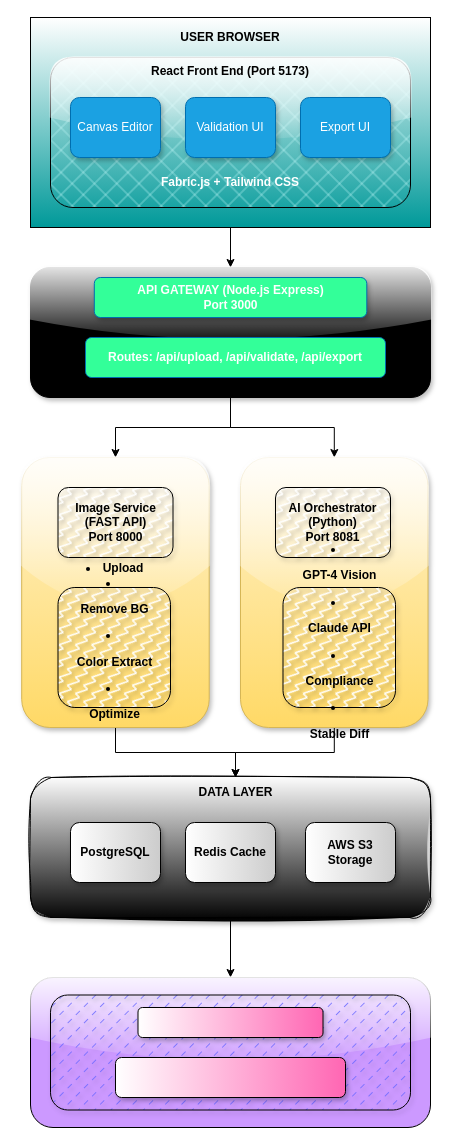
Image size: 454x1145. Some labels were removed from this diagram. The shapes that lost their labels are listed below. From the top down, each one's centre as x and y in pixels, then its label:
(x=231, y=1023): EXTERNAL AI SERVICES
(x=231, y=1078): OpenAI │ Anthropic │ Stability │ HF
